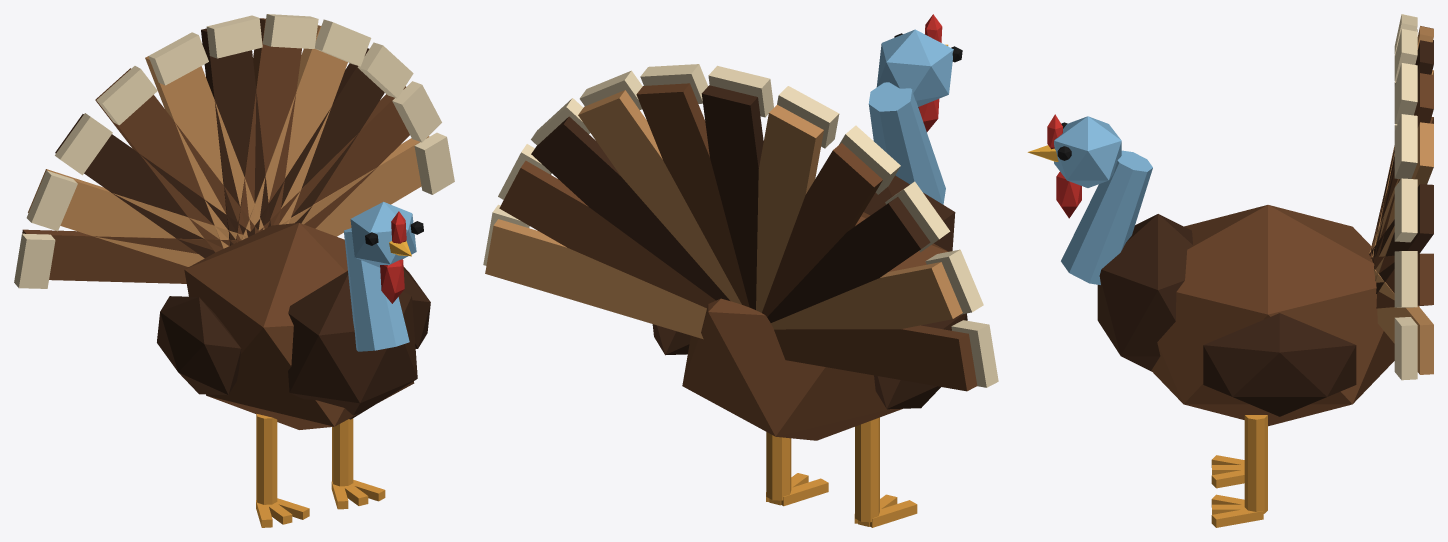
File: turkey.glb
The picture shows the model from 3 angles, left to right: view 1: azimuth 30°, elevation 25°; view 2: azimuth 150°, elevation 25°; view 3: azimuth 270°, elevation 25°; orthographic projection. The views are drawn at different scales.
Visible parts, largest first — view 1: turkey; view 2: turkey; view 3: turkey.
Boxes of the visible parts, x1=… form: turkey: x1=14, y1=14, x2=454, y2=527; turkey: x1=483, y1=14, x2=998, y2=527; turkey: x1=1027, y1=14, x2=1433, y2=527.
Bounding box in the file's own units: 2.3 × 2.15 × 1.74.
